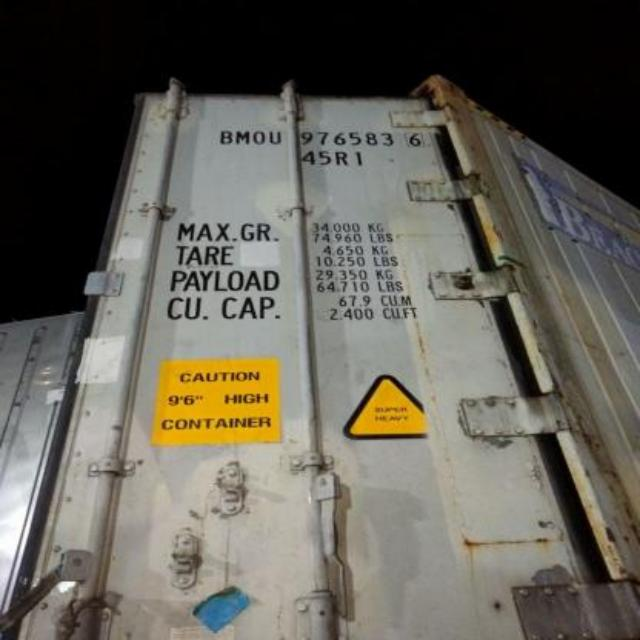3: (379, 128, 397, 152)
5: (348, 125, 362, 148)
6: (402, 132, 424, 152), (329, 124, 347, 148)
7: (314, 122, 330, 148)
8: (364, 122, 380, 150)
9: (298, 123, 314, 149)
B: (216, 125, 232, 145)
M: (233, 126, 251, 148)
O: (252, 126, 264, 148)
U: (268, 126, 284, 150)
